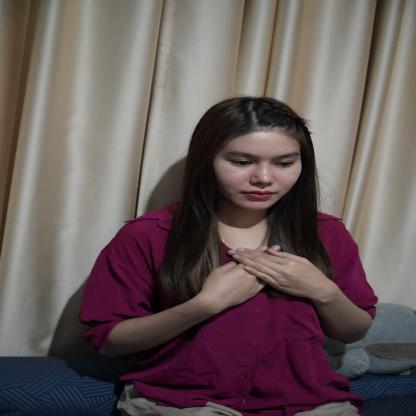Grieve: (177, 244, 340, 316)
